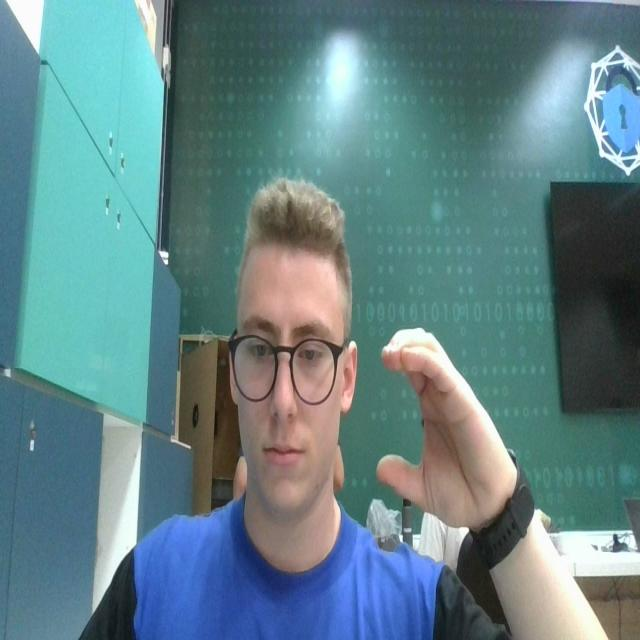C: (369, 326, 508, 524)
